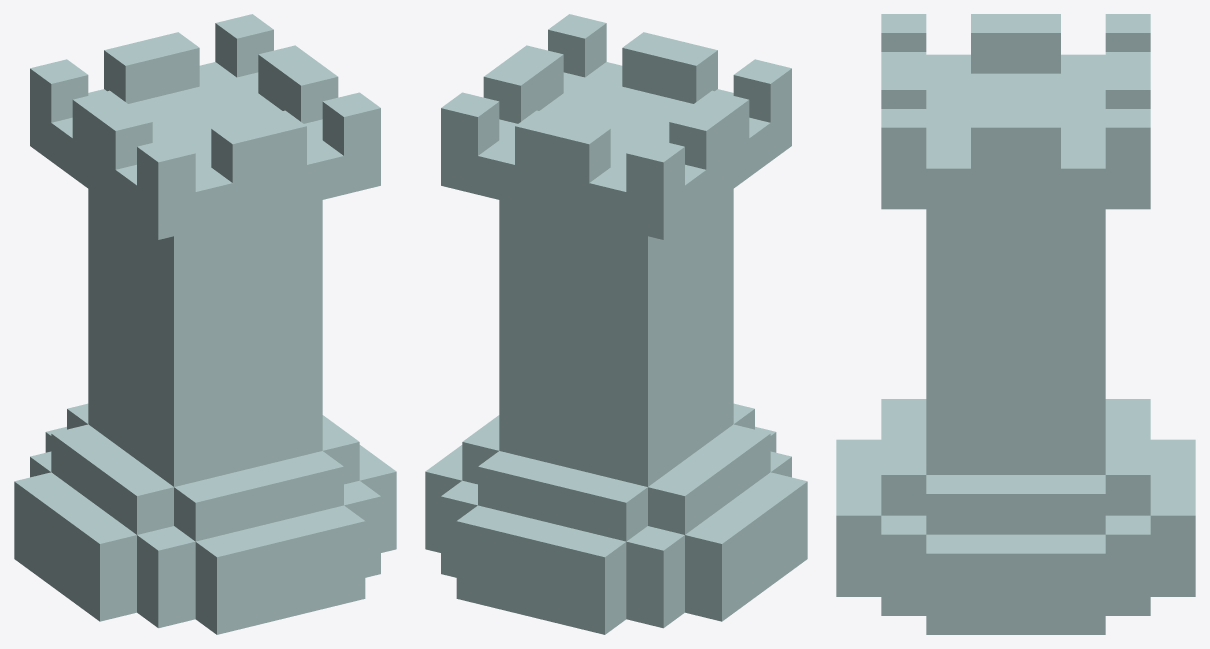
File: WhiteRook.obj
3 views of the same model, side by side, from view 1: azimuth 30°, elevation 25°; view 2: azimuth 150°, elevation 25°; view 3: azimuth 270°, elevation 25° (orthographic). The views are drawn at different scales.
Size of the model in its own units: 0.8 by 1.2 by 0.8.
